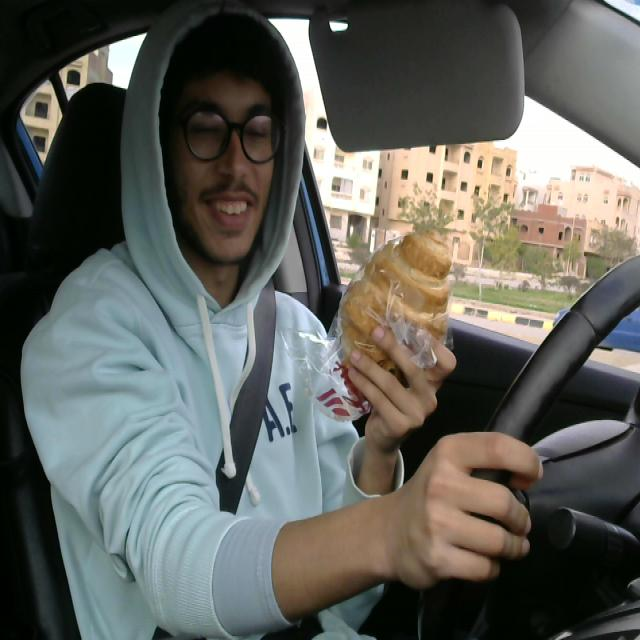eating: (336, 231, 456, 403)
